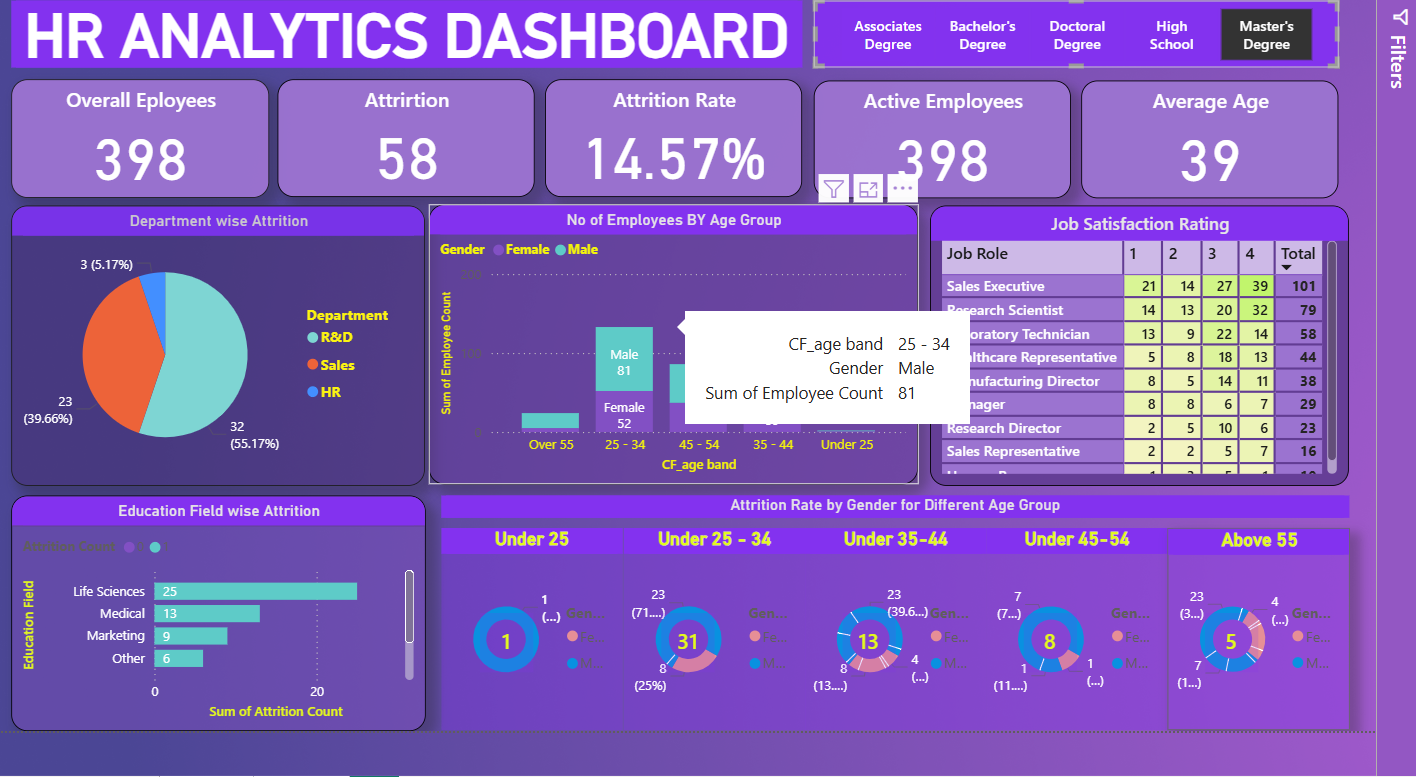

This screenshot's page, from the dashboard's own definition file:
{"tool":"powerbi","page":{"name":"Page 1","canvas":[1280,720],"ordinal":0},"visuals":[{"type":"card","title":"Overall Eployees","fields":{"Values":["Sum(HR data.Employee Count)"]},"box":[10.5,112.8,240,110],"z":0},{"type":"card","title":"Attrirtion","fields":{"Values":["Sum(HR data.Attrition Count)"]},"box":[258.1,112.8,239.5,109.3],"z":1000},{"type":"card","title":"Attrition Rate","fields":{"Values":["HR data.Attrition Rate"]},"box":[507,112.8,239.5,109.3],"z":2000},{"type":"card","title":"Active Employees","fields":{"Values":["Sum(HR data.Employee Count)"]},"box":[757,114,239.5,109.3],"z":3000},{"type":"card","title":"Average Age","fields":{"Values":["Avg(HR data.Age)"]},"box":[1005.8,114,239.5,109.3],"z":4000},{"type":"pieChart","title":"Department wise Attrition","fields":{"Y":["Sum(HR data.Attrition Count)"],"Category":["HR data.Department"]},"box":[10.5,230.2,384.9,260.5],"z":5000},{"type":"columnChart","title":"No of Employees BY Age Group","fields":{"Category":["HR data.CF_age band"],"Y":["Sum(HR data.Employee Count)"],"Series":["HR data.Gender"]},"box":[399.2,229.3,455.1,260.7],"z":6000},{"type":"pivotTable","title":"Job Satisfaction Rating","fields":{"Rows":["HR data.Job Role"],"Columns":["HR data.Job Satisfaction"],"Values":["Sum(HR data.Employee Count)"]},"box":[864.7,230.4,389.9,260.7],"z":7000},{"type":"barChart","title":"Education Field wise Attrition","fields":{"Category":["HR data.Education Field"],"Series":["HR data.Attrition Count"],"Y":["Sum(HR data.Attrition Count)"]},"box":[10.5,500.5,385.2,218.8],"z":7001},{"type":"donutChart","title":"Under 25","fields":{"Category":["HR data.Gender"],"Y":["Sum(HR data.Attrition Count)"],"Series":["HR data.CF_age band"]},"box":[410.7,530.2,169,188.2],"z":7002},{"type":"textbox","title":"Attrition Rate by Gender for Different Age Group","box":[410.7,500,844.8,20.6],"z":7003},{"type":"donutChart","title":"Under 25 - 34","fields":{"Category":["HR data.Gender"],"Y":["Sum(HR data.Attrition Count)"],"Series":["HR data.CF_age band"]},"box":[579.7,530.2,169,188.2],"z":7004},{"type":"donutChart","title":"Under 35-44","fields":{"Category":["HR data.Gender"],"Y":["Sum(HR data.Attrition Count)"],"Series":["HR data.CF_age band"]},"box":[748.7,530.2,169,188.2],"z":7005},{"type":"donutChart","title":"Under 45-54","fields":{"Category":["HR data.Gender"],"Y":["Sum(HR data.Attrition Count)"],"Series":["HR data.CF_age band"]},"box":[917.6,530.2,169,188.2],"z":7006},{"type":"donutChart","title":"Above 55","fields":{"Category":["HR data.Gender"],"Y":["Sum(HR data.Attrition Count)"],"Series":["HR data.CF_age band"]},"box":[1086,530.2,169.8,188.4],"z":7007},{"type":"card","fields":{"Values":["Sum(HR data.Attrition Count)"]},"box":[446,609.3,49.4,54.9],"z":7008},{"type":"card","fields":{"Values":["Sum(HR data.Attrition Count)"]},"box":[614.8,609.3,49.4,54.9],"z":7009},{"type":"card","fields":{"Values":["Sum(HR data.Attrition Count)"]},"box":[783.5,609.3,49.4,54.9],"z":7010},{"type":"card","fields":{"Values":["Sum(HR data.Attrition Count)"]},"box":[952.3,609.3,49.4,54.9],"z":7011},{"type":"card","fields":{"Values":["Sum(HR data.Attrition Count)"]},"box":[1121.1,609.3,49.4,54.9],"z":7012},{"type":"textbox","title":"HR ANALYTICS  DASHBOARD","box":[10.5,39.5,736,62.8],"z":7013},{"type":"slicer","fields":{"Values":["HR data.Education"]},"box":[757,39.5,488.4,62.8],"z":7014}]}

Visuals, with their boxes in screenshot pixels (x1, y1, x2, y2), scaled from the page's 1280x720 canvas onto the 1416x777 screenshot:
"Overall Eployees" card: left=12, top=122, right=277, bottom=240
"Attrirtion" card: left=286, top=122, right=550, bottom=240
"Attrition Rate" card: left=561, top=122, right=826, bottom=240
"Active Employees" card: left=837, top=123, right=1102, bottom=241
"Average Age" card: left=1113, top=123, right=1378, bottom=241
"Department wise Attrition" pieChart: left=12, top=248, right=437, bottom=530
"No of Employees BY Age Group" columnChart: left=442, top=247, right=945, bottom=529
"Job Satisfaction Rating" pivotTable: left=957, top=249, right=1388, bottom=530
"Education Field wise Attrition" barChart: left=12, top=540, right=438, bottom=776
"Under 25" donutChart: left=454, top=572, right=641, bottom=775
"Attrition Rate by Gender for Different Age Group" textbox: left=454, top=540, right=1389, bottom=562
"Under 25 - 34" donutChart: left=641, top=572, right=828, bottom=775
"Under 35-44" donutChart: left=828, top=572, right=1015, bottom=775
"Under 45-54" donutChart: left=1015, top=572, right=1202, bottom=775
"Above 55" donutChart: left=1201, top=572, right=1389, bottom=775
card - Sum(HR data.Attrition Count): left=493, top=658, right=548, bottom=717
card - Sum(HR data.Attrition Count): left=680, top=658, right=735, bottom=717
card - Sum(HR data.Attrition Count): left=867, top=658, right=921, bottom=717
card - Sum(HR data.Attrition Count): left=1053, top=658, right=1108, bottom=717
card - Sum(HR data.Attrition Count): left=1240, top=658, right=1295, bottom=717
"HR ANALYTICS  DASHBOARD" textbox: left=12, top=43, right=826, bottom=110
slicer - HR data.Education: left=837, top=43, right=1378, bottom=110
